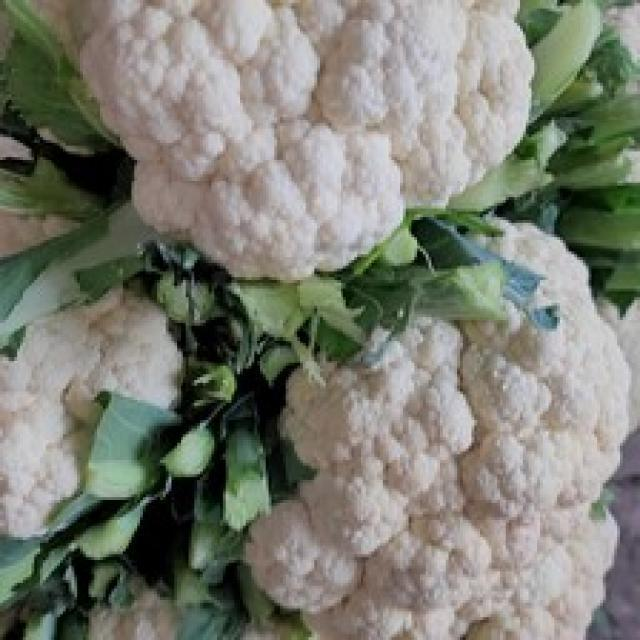Cauliflower: (247, 223, 632, 639), (81, 0, 533, 278), (0, 152, 212, 600)
